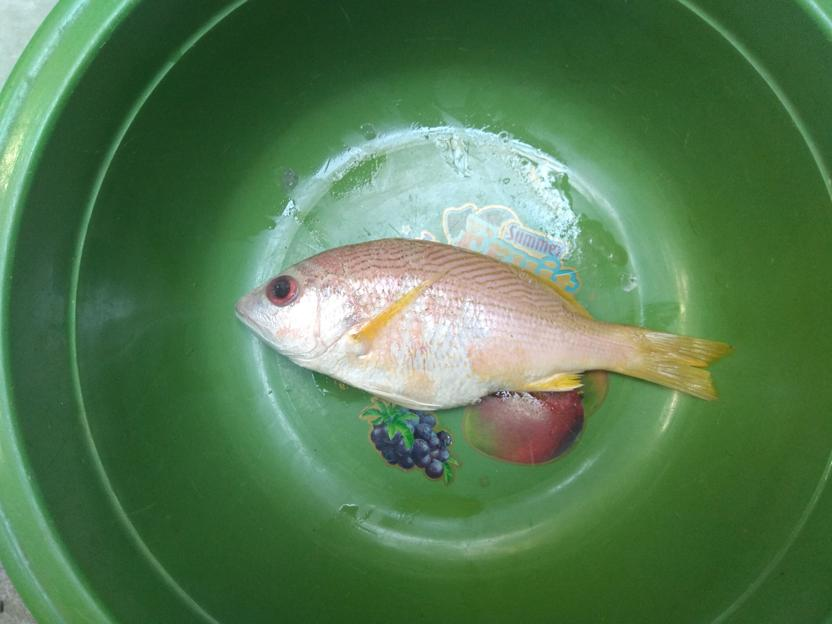Fish head: (235, 250, 363, 369)
Fish tail: (624, 324, 735, 405)
